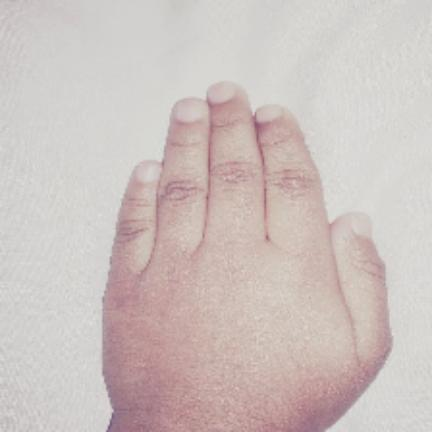Nail: (176, 98, 207, 123), (208, 81, 235, 103), (135, 160, 161, 182), (256, 104, 283, 122), (351, 215, 372, 237)
